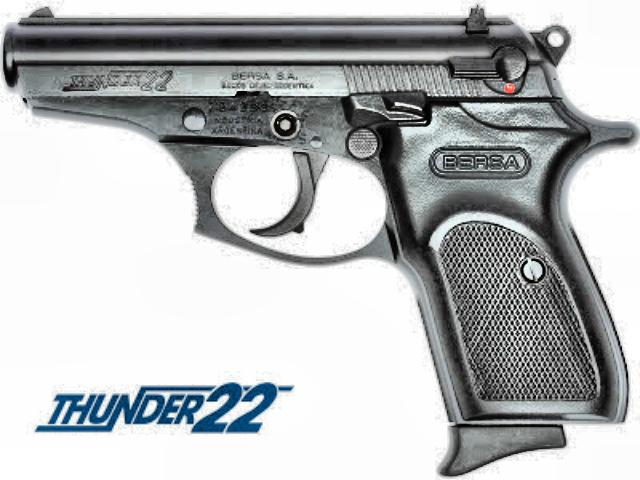pistol: (1, 5, 628, 469)
